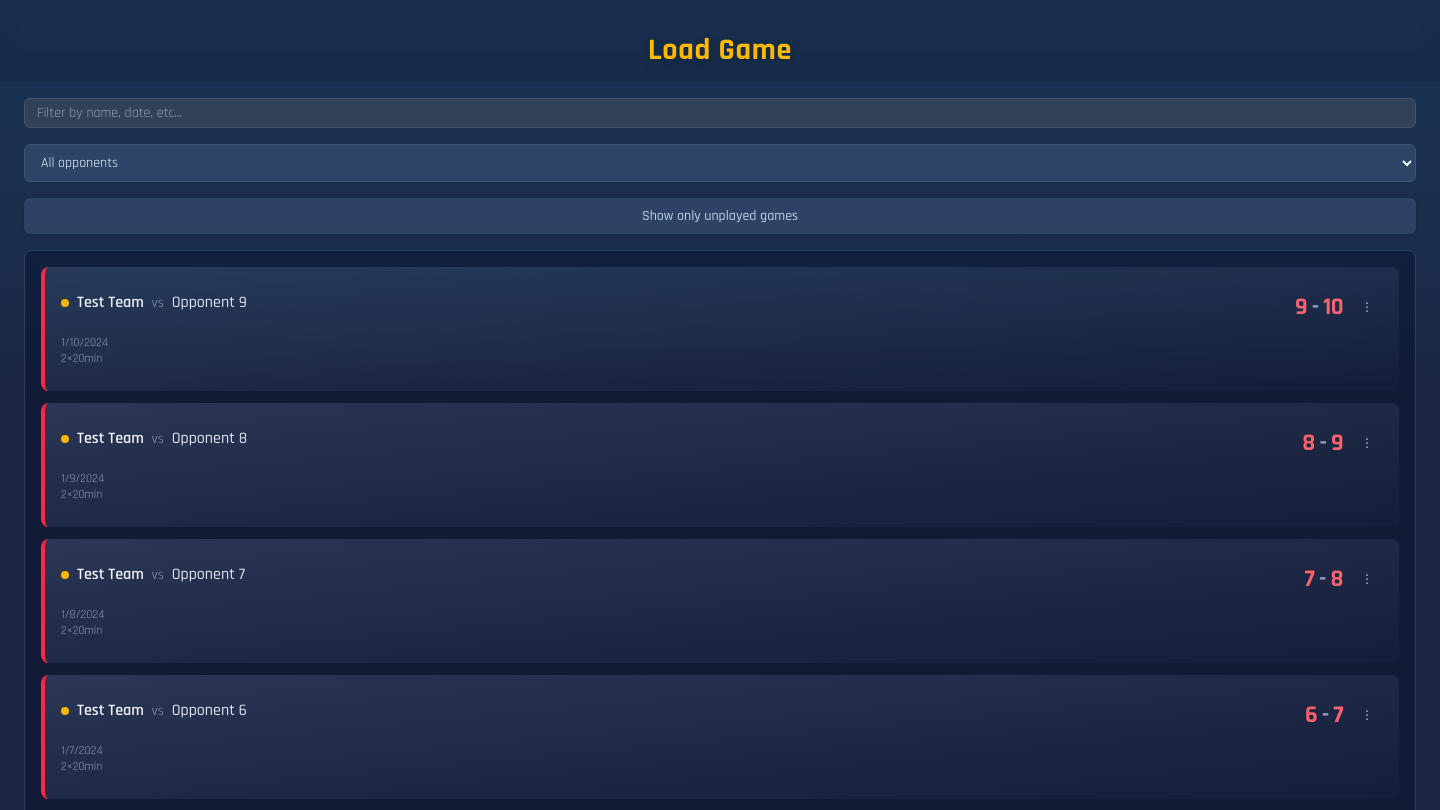
Test: LoadGameModal dropdown positioning › should open menu downward when item is near top of viewport
The image size is (1440, 810).
expect the element with test id "^game-item-" is shown: met, box [41,266,1399,390]
Click to open menu
Click the button named "Game actions" in the row of "Opponent 9".
click(1367, 306)  # box [1351,290,1383,322]
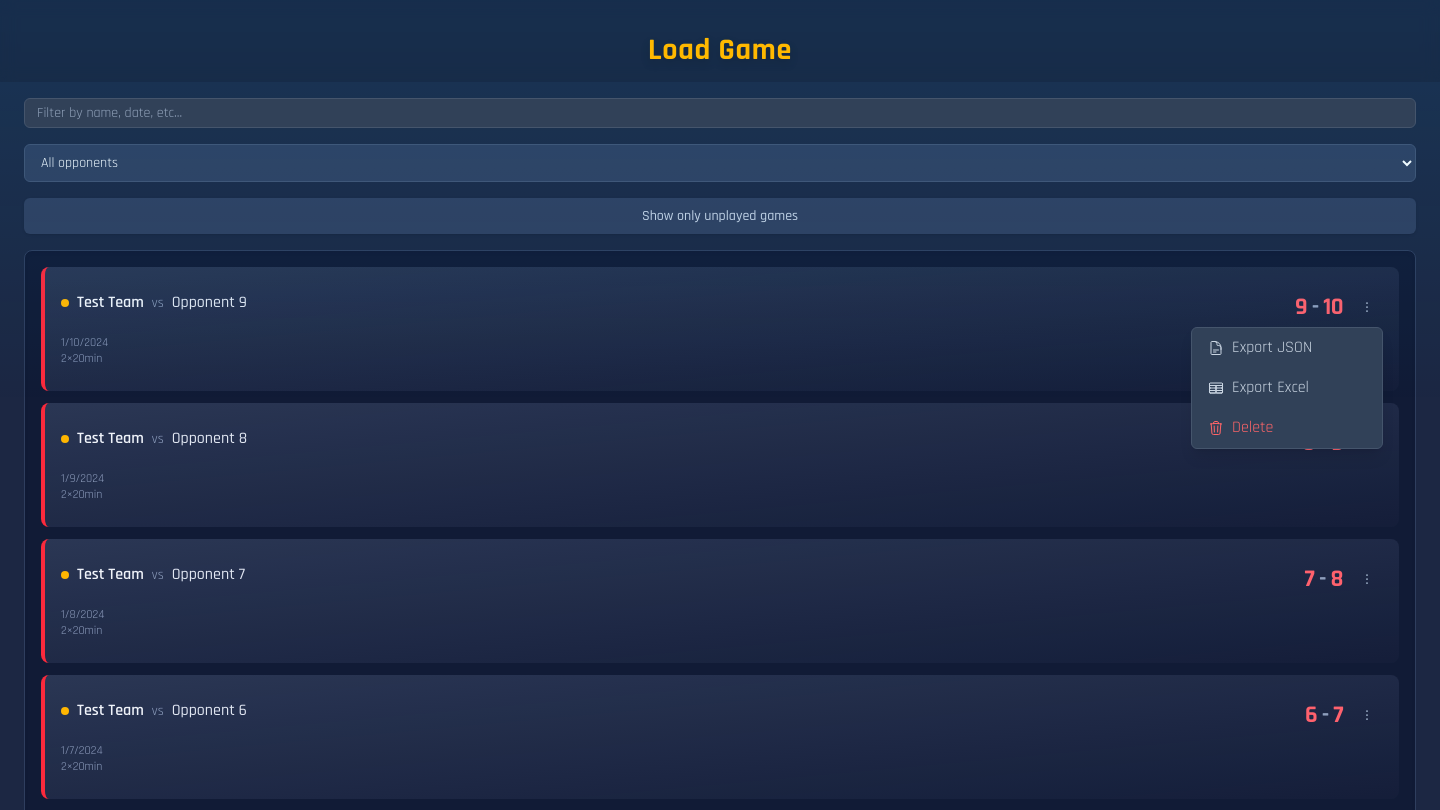
expect the menu item "Export JSON" is shown: met, box [1192,328,1382,368]
